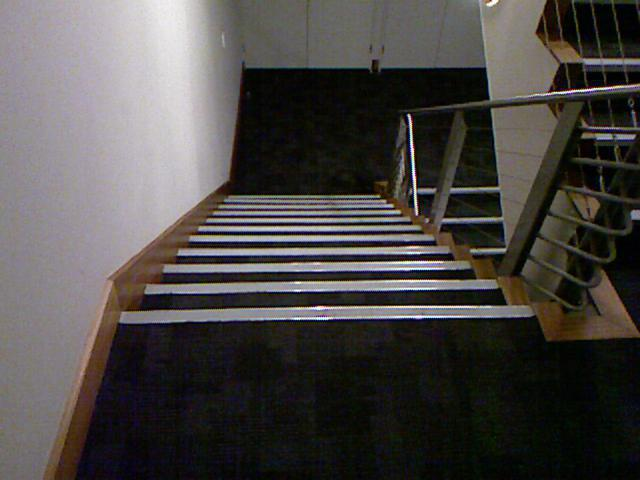Escaleras: (161, 192, 521, 330), (493, 7, 639, 309), (385, 176, 549, 288)
